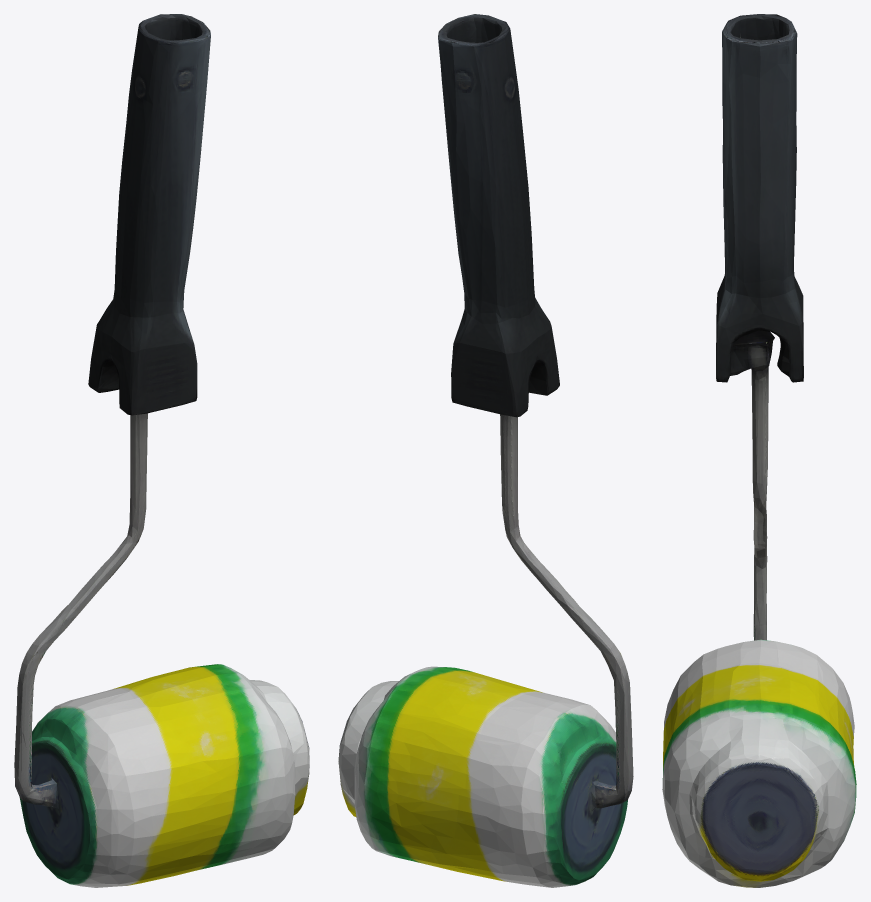
Rendered from roller.glb.
3 renders of one model, left to right at view 1: azimuth 30°, elevation 25°; view 2: azimuth 150°, elevation 25°; view 3: azimuth 270°, elevation 25°, orthographic.
Parts seen in each view (by area): view 1: world; view 2: world; view 3: world.
Boxes of the visible parts, left/top/right/bottom form: world: left=14, top=14, right=309, bottom=887; world: left=338, top=14, right=633, bottom=887; world: left=662, top=14, right=856, bottom=887.
Bounding box in the file's own units: 0.3329 × 0.9993 × 0.2129.
Materials: 1 (1 with a texture image).
